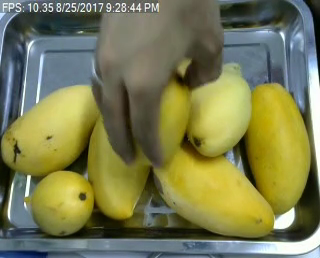Mango: (149, 137, 274, 237), (0, 85, 109, 175), (243, 83, 311, 212), (87, 112, 153, 218), (185, 62, 251, 156), (25, 170, 95, 236), (145, 73, 191, 163)
